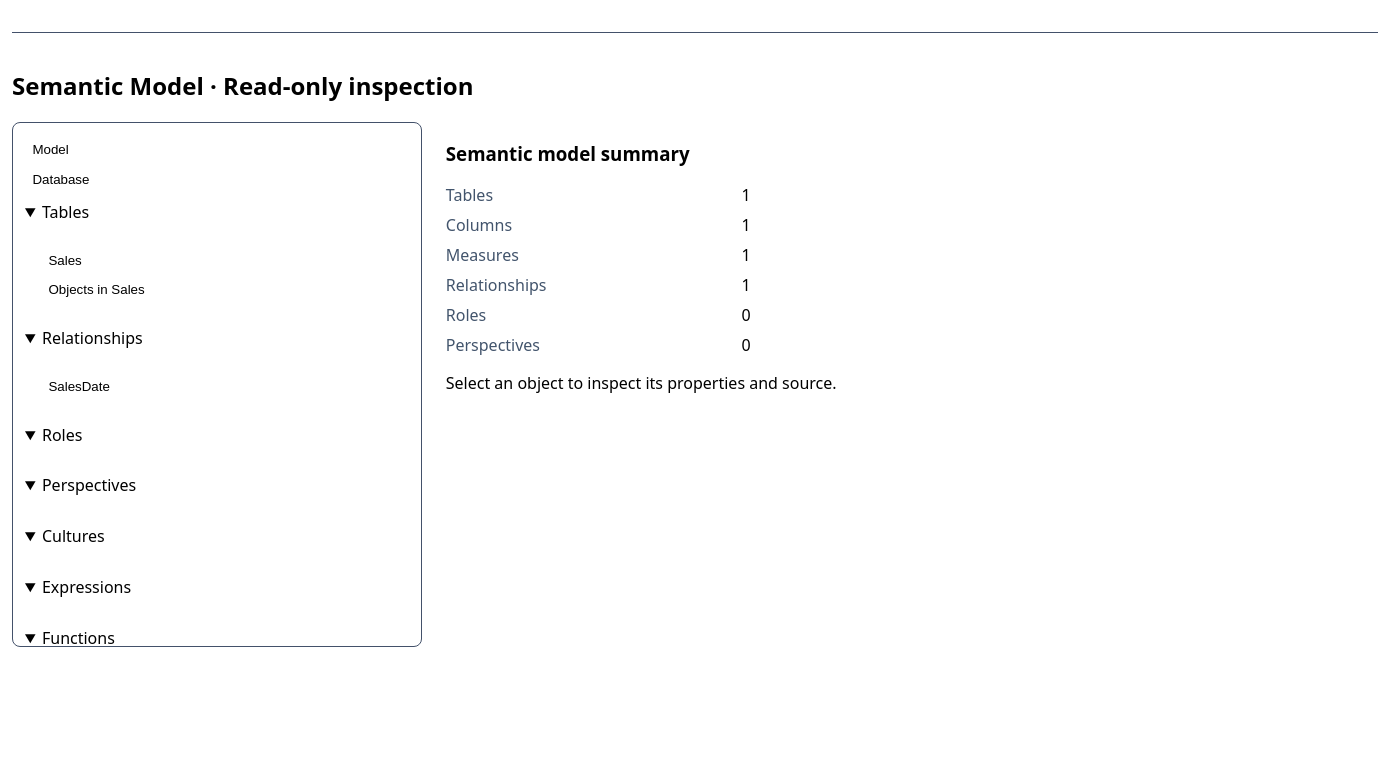
Scenario: semantic inspection › inspects a column
Click the button "Objects in Sales": (80, 290) 41,275 -> 409,305
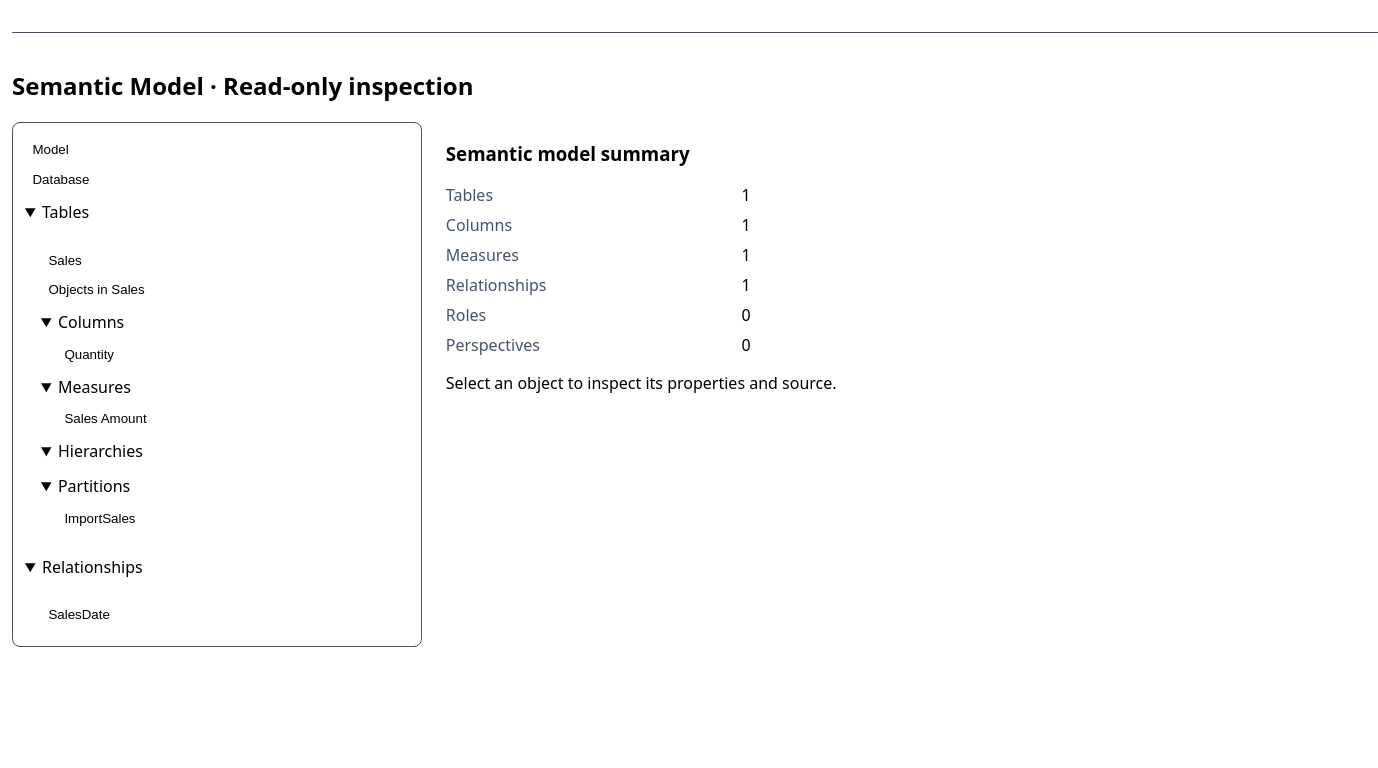
Click the button with aria-label "Column: Quantity": (89, 354) 57,340 -> 409,369
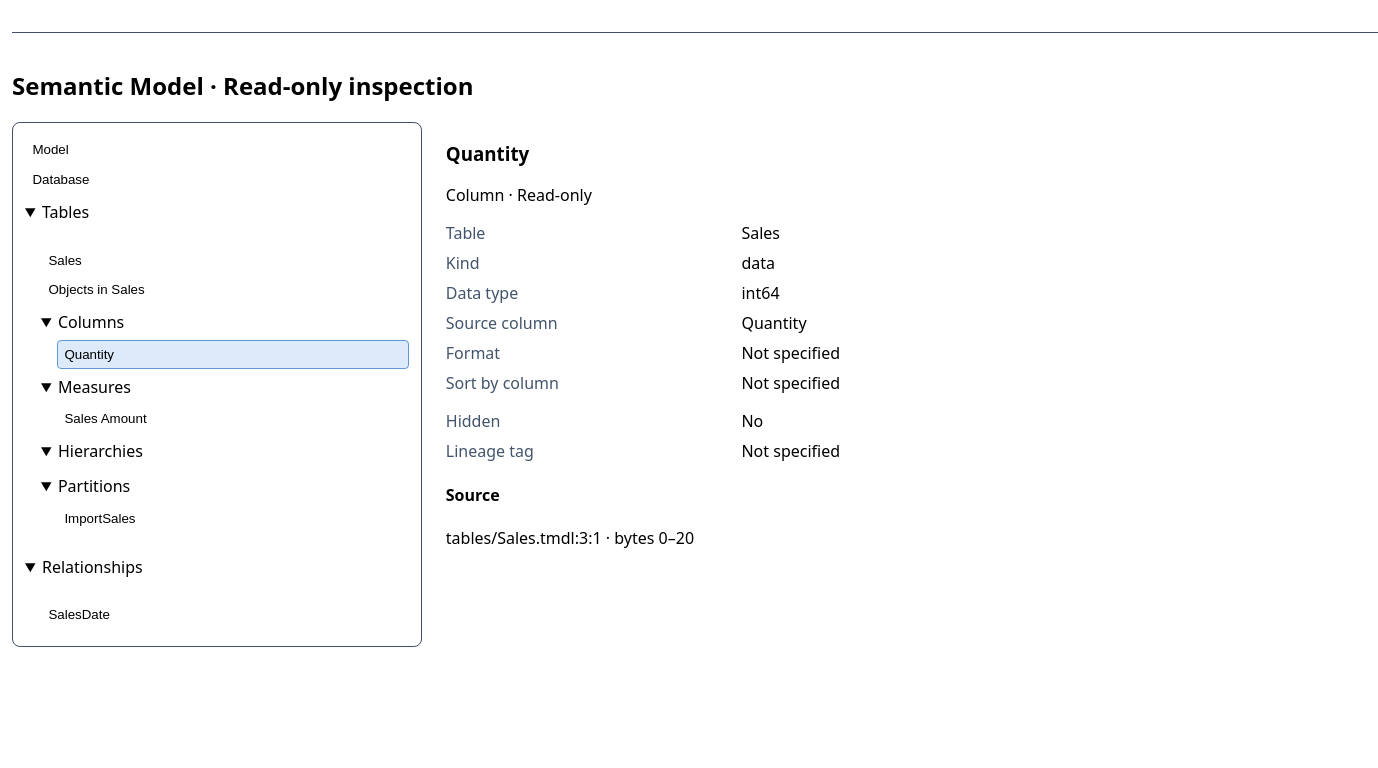
Expected: the text "int64" is shown, 742,282 -> 780,304
